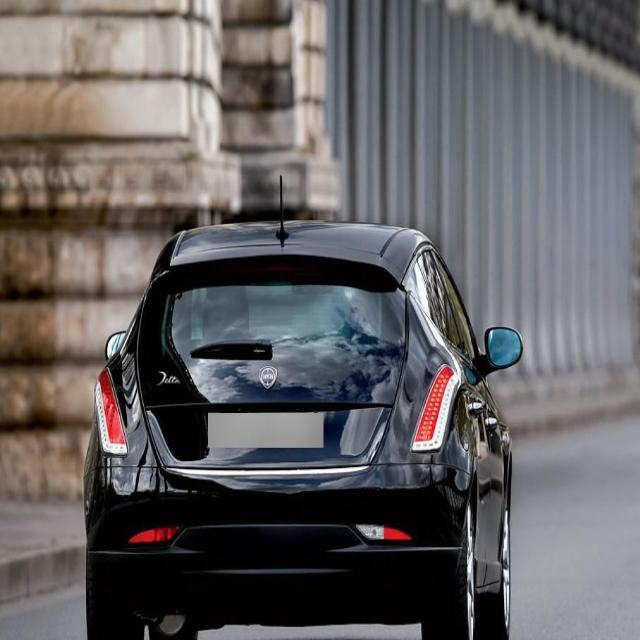back_glass: (151, 255, 404, 382)
back_left_side_light: (92, 364, 130, 459)
back_right_side_light: (408, 363, 460, 455)
front_left_side_mirror: (105, 329, 128, 362)
front_right_side_mirror: (482, 325, 524, 376)
rear_bumper: (82, 464, 471, 602)
